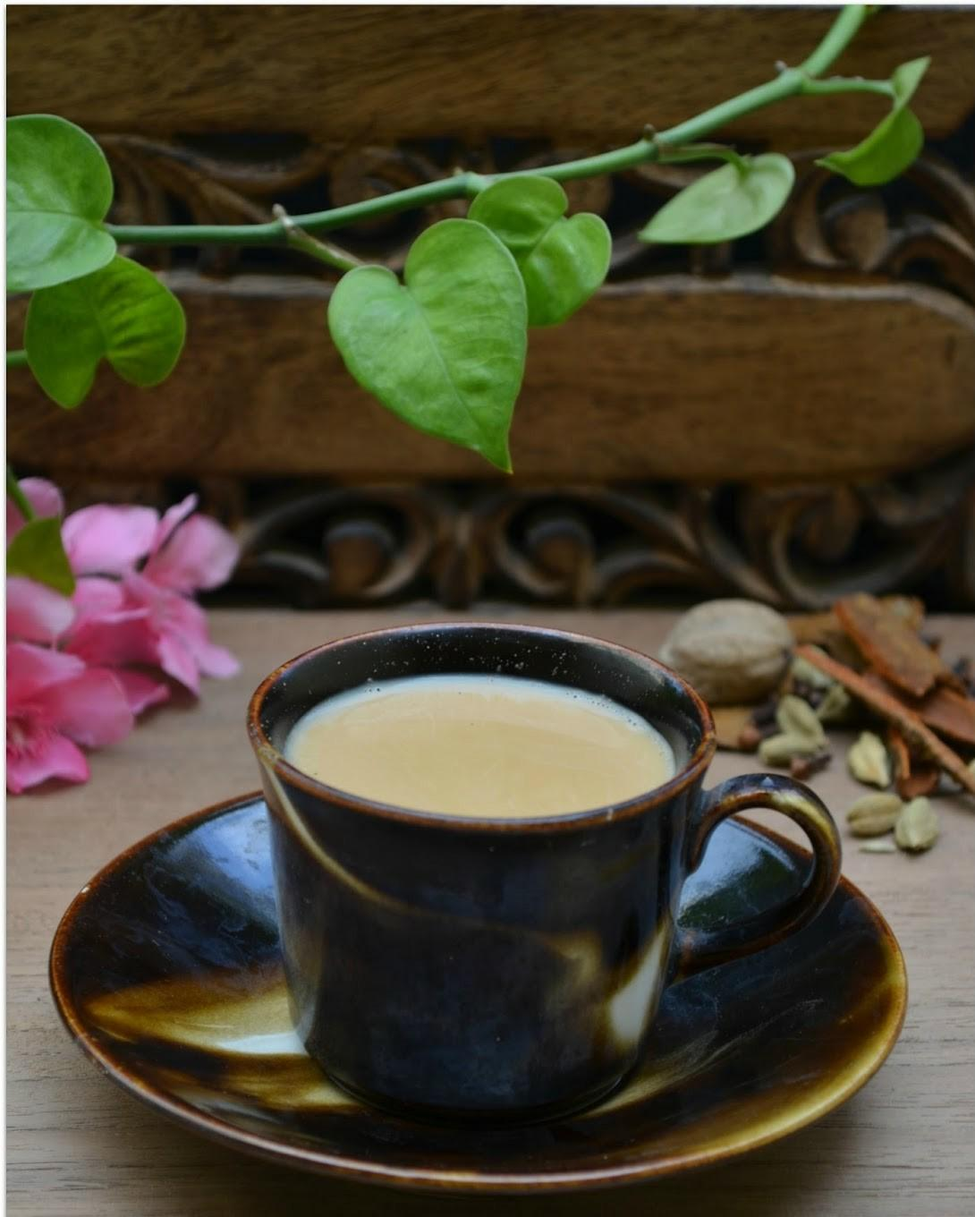Chai: (291, 673, 681, 813)
